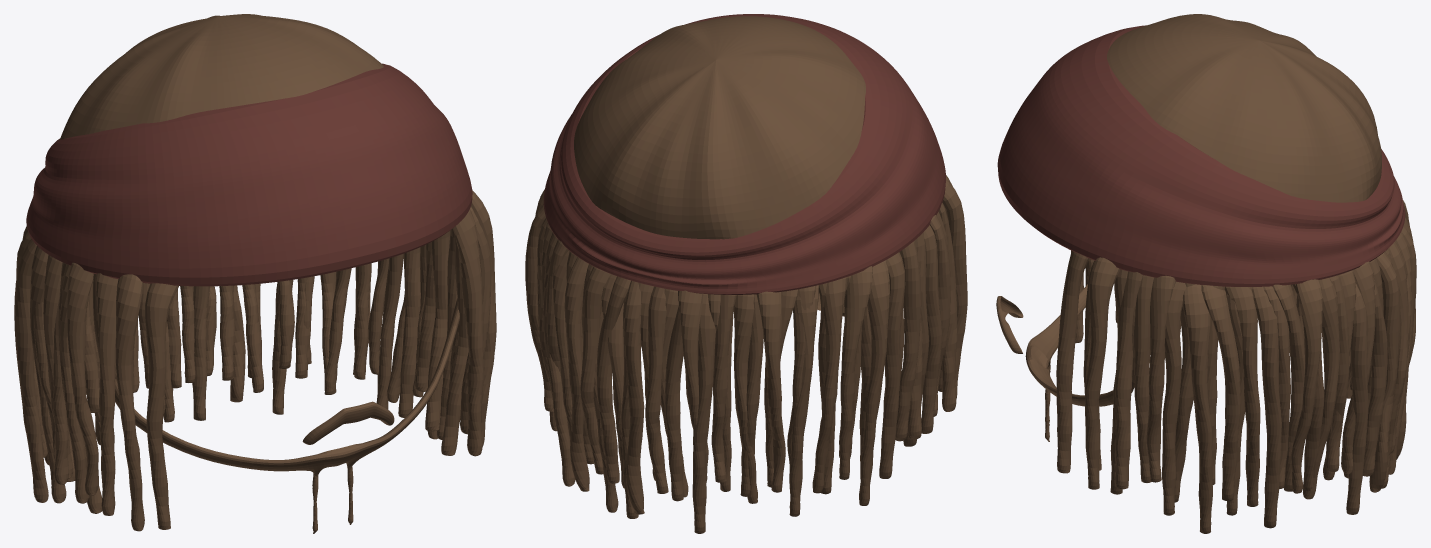
File: hair03.fbx
The picture shows the model from 3 angles, left to right: view 1: azimuth 30°, elevation 25°; view 2: azimuth 150°, elevation 25°; view 3: azimuth 270°, elevation 25°; orthographic projection. The views are drawn at different scales.
Parts seen in each view (by area): view 1: haare, tuch, bart; view 2: haare, tuch; view 3: haare, tuch, bart.
Part boxes in pixels (x1,y1,x2,y2): haare: [14, 14, 496, 531]; tuch: [26, 63, 472, 286]; bart: [93, 273, 459, 533]; haare: [525, 16, 967, 533]; tuch: [543, 14, 945, 294]; haare: [1056, 14, 1416, 533]; tuch: [997, 25, 1405, 286]; bart: [996, 284, 1135, 441].
Size of the model in its own units: 216 by 233 by 206.
